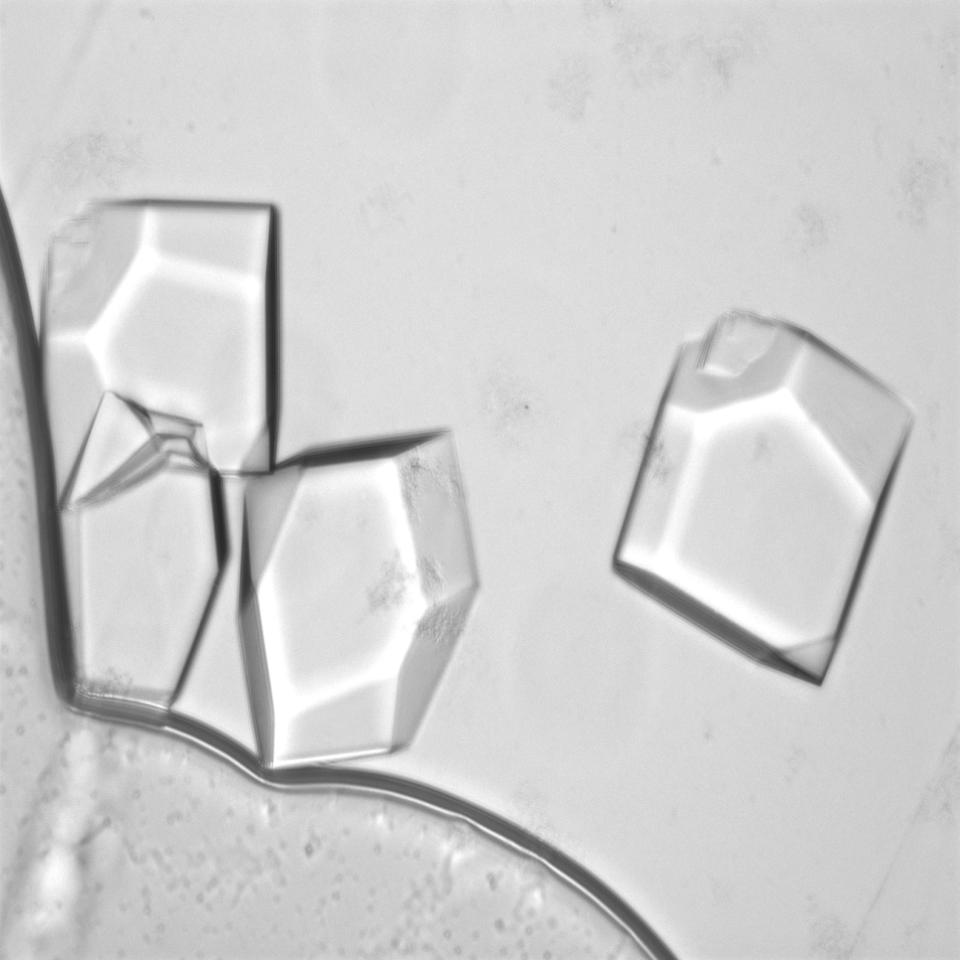crystal: (609, 301, 923, 692), (231, 425, 486, 768)
